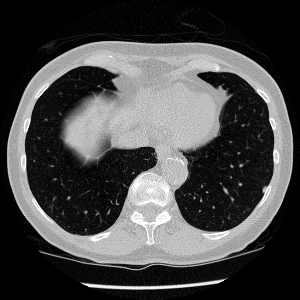nodule: (262, 187, 266, 191)
